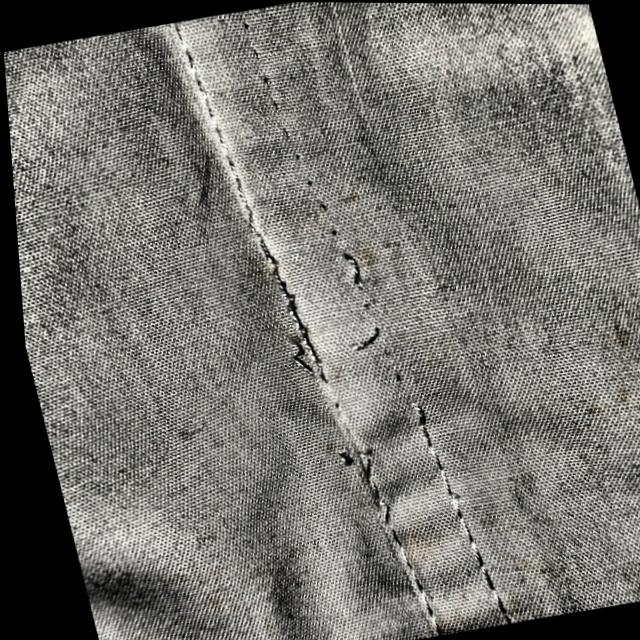Stitch: (174, 158, 477, 563)
